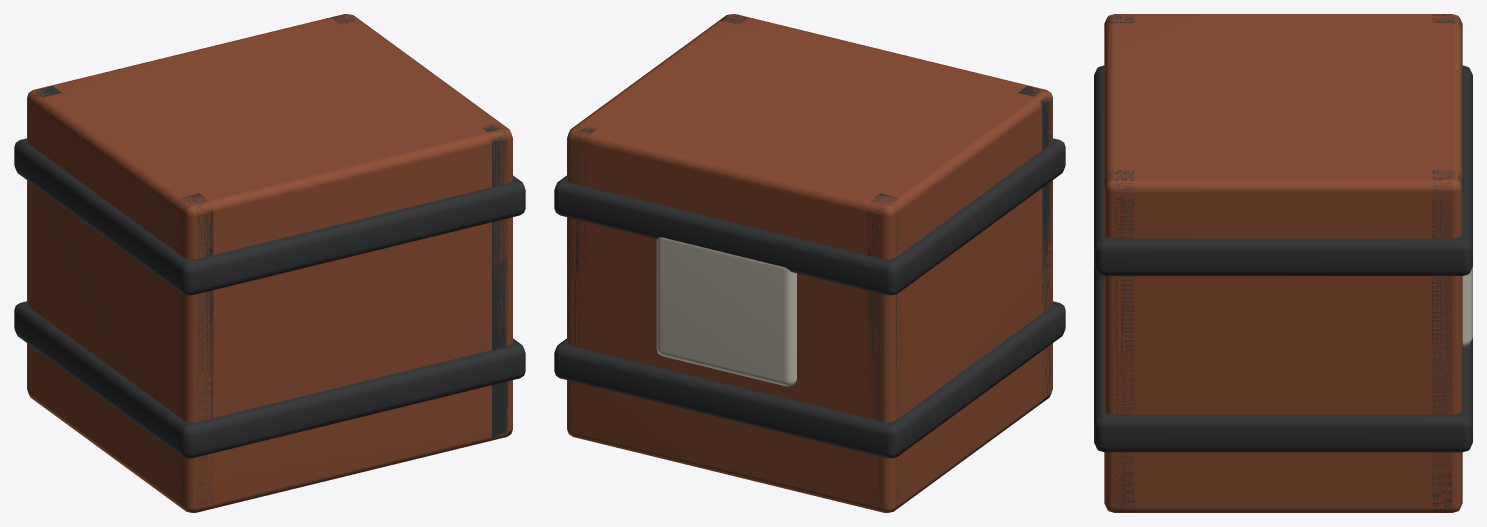
File: yard-crate.glb
3 renders of one model, left to right at view 1: azimuth 30°, elevation 25°; view 2: azimuth 150°, elevation 25°; view 3: azimuth 270°, elevation 25°, orthographic. The views are drawn at different scales.
Parts seen in each view (by area): view 1: yard-crate; view 2: yard-crate; view 3: yard-crate.
Part boxes in pixels (bbox=[...]): yard-crate: bbox=[14, 14, 525, 512]; yard-crate: bbox=[554, 14, 1065, 512]; yard-crate: bbox=[1094, 14, 1472, 512].
Size of the model in its own units: 0.84 by 0.72 by 0.74.
